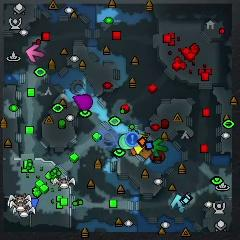Other: (125, 132, 139, 147)
p1: (29, 197, 39, 209)
p2: (120, 134, 133, 150)
p3: (73, 94, 93, 111)
p4: (133, 134, 145, 154)
p5: (129, 148, 137, 155)
x1: (26, 45, 45, 62)
x3: (171, 194, 188, 213)
x4: (149, 137, 168, 156)
x5: (138, 147, 153, 160)
